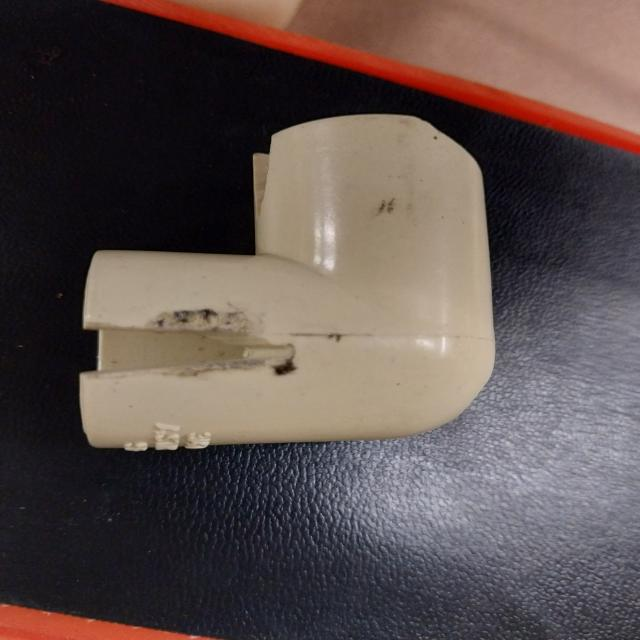Defective: (95, 328, 294, 376)
L Joint: (77, 115, 497, 455)
